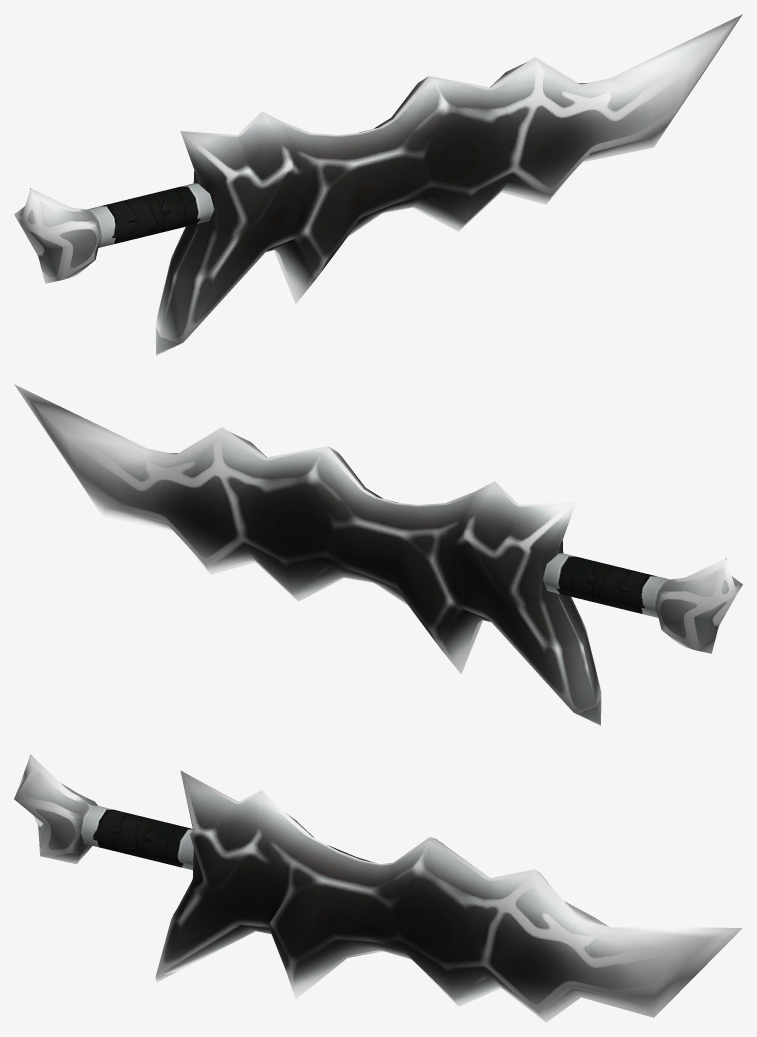
File: item_weaswomgm2501-et07.glb
3 views of the same model, one above another, from view 1: azimuth 30°, elevation 25°; view 2: azimuth 150°, elevation 25°; view 3: azimuth 330°, elevation 25° (orthographic).
Parts seen in each view (by area): view 1: FlyffMesh; view 2: FlyffMesh; view 3: FlyffMesh.
Boxes of the visible parts, x1=… form: FlyffMesh: x1=14, y1=14, x2=742, y2=355; FlyffMesh: x1=14, y1=384, x2=742, y2=725; FlyffMesh: x1=14, y1=754, x2=742, y2=1022.
Size of the model in its own units: 1.2 by 0.347 by 0.1155.
Materials: 1 (1 with a texture image).
